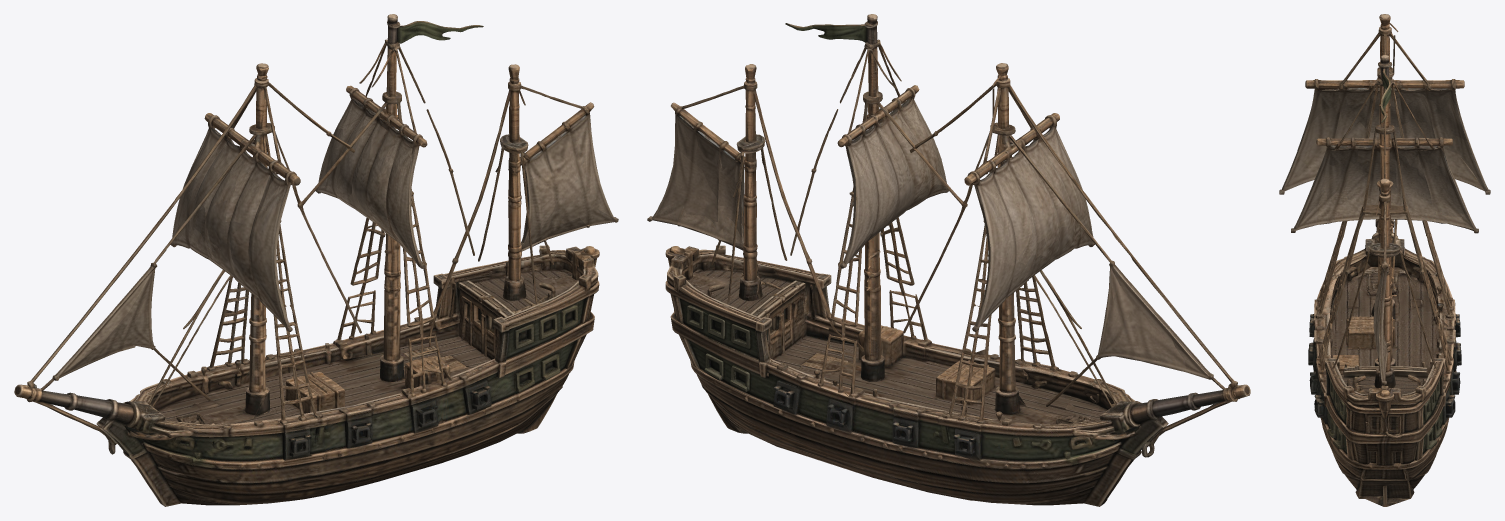
The model's file is merchant_brig_3002.glb.
The picture shows the model from 3 angles, left to right: view 1: azimuth 30°, elevation 25°; view 2: azimuth 150°, elevation 25°; view 3: azimuth 270°, elevation 25°; orthographic projection. The views are drawn at different scales.
Parts seen in each view (by area): view 1: output_unwrapped; view 2: output_unwrapped; view 3: output_unwrapped.
Part boxes in pixels (<box>): output_unwrapped: <box>14,14,618,506</box>; output_unwrapped: <box>647,14,1250,506</box>; output_unwrapped: <box>1279,14,1490,506</box>.
Size of the model in its own units: 1.9 by 1.31 by 0.6503.
1 material, 1 textured.
